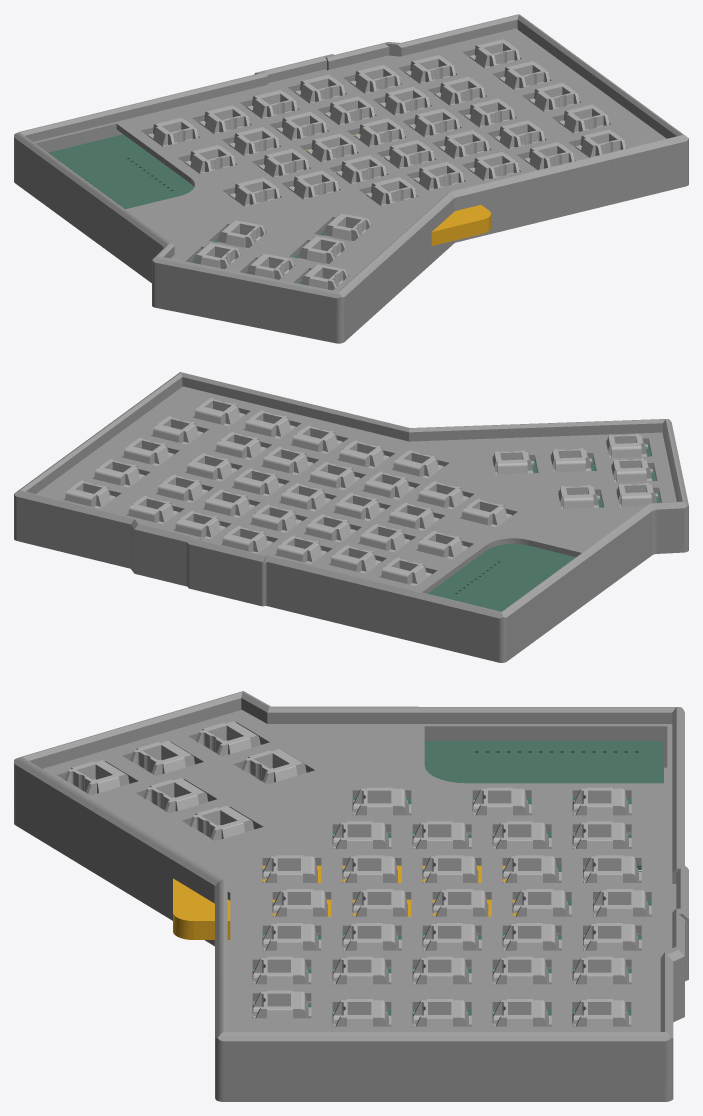
File: split-right.glb
The picture shows the model from 3 angles, top to bottom: view 1: azimuth 30°, elevation 25°; view 2: azimuth 150°, elevation 25°; view 3: azimuth 270°, elevation 25°; orthographic projection. The views are drawn at different scales.
Parts seen in each view (by area): view 1: Right Top, object 2, splitboard right_PCB, battery v1; view 2: Right Top, object 2, splitboard right_PCB; view 3: Right Top, object 2, splitboard right_PCB, battery v1.
Part boxes in pixels (x1,y1,x2,y2): Right Top: (14,14,688,343); object 2: (147,39,625,290); splitboard right_PCB: (48,56,577,283); battery v1: (305,134,490,245); Right Top: (14,372,688,662); object 2: (65,398,658,585); splitboard right_PCB: (428,445,660,611); Right Top: (14,691,688,1101); object 2: (64,721,651,1027); splitboard right_PCB: (129,741,663,1015); battery v1: (173,865,516,939).
Bounding box in the file's own units: 6407 × 572 × 5263.
